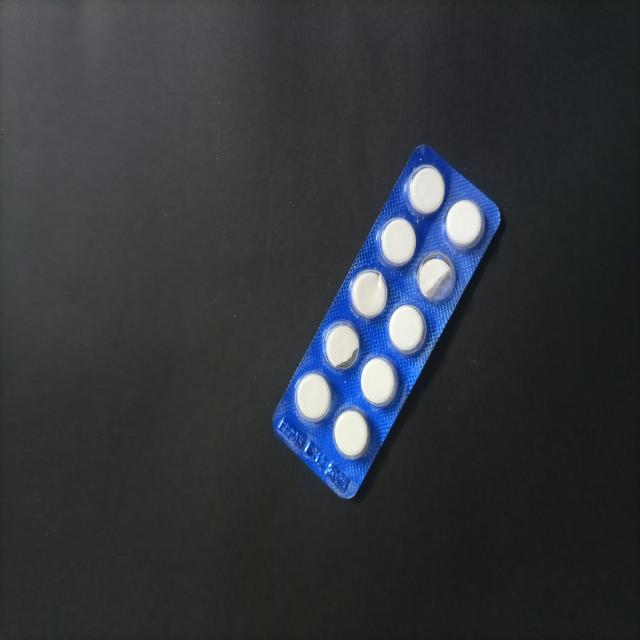defect: (413, 250, 459, 307), (320, 320, 362, 374)
